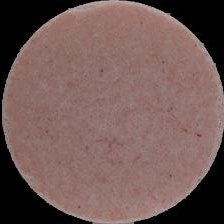0781-5939: (0, 0, 224, 224)
